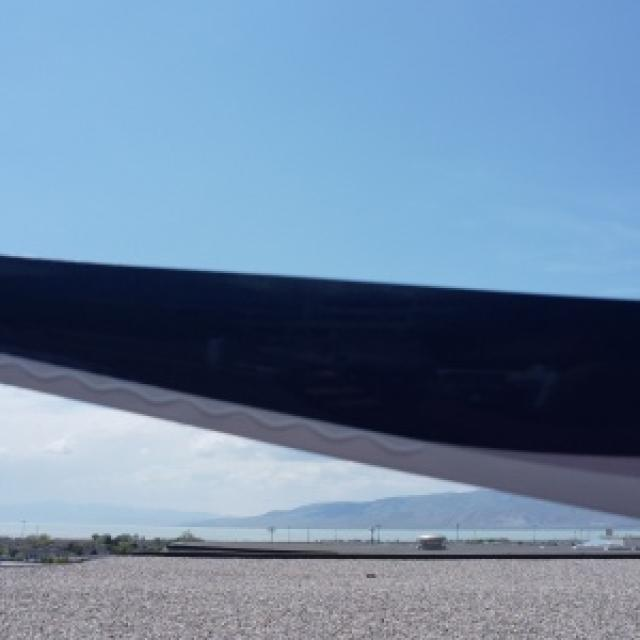healthy: (0, 256, 638, 516)
